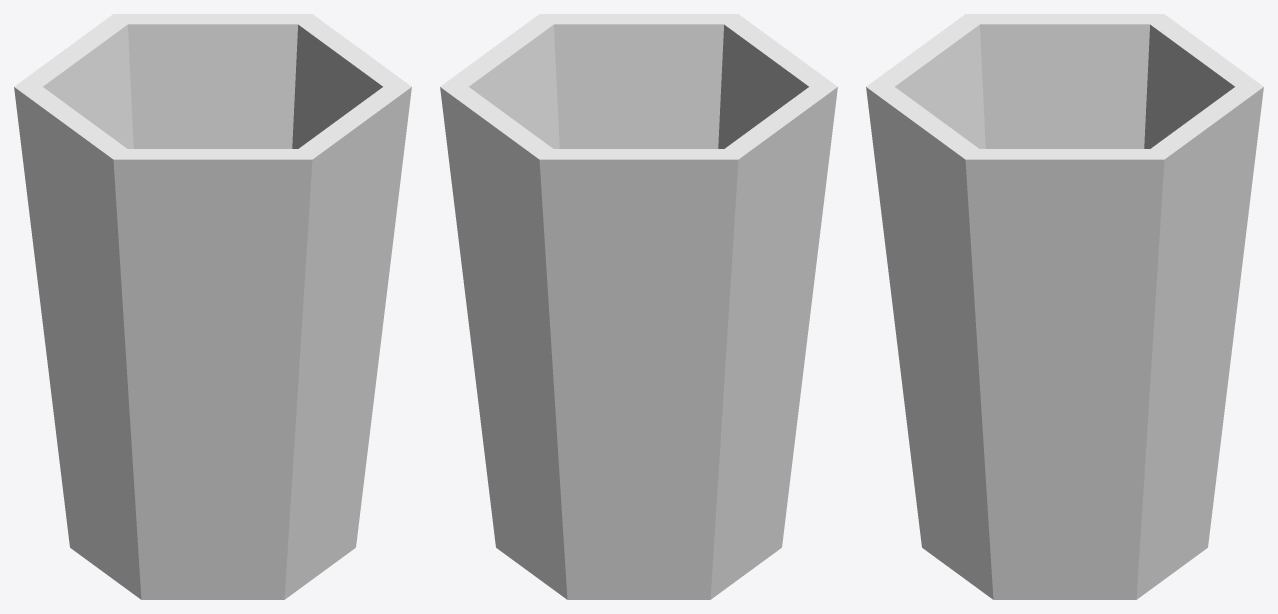
The model's file is Trash.fbx.
3 renders of one model, left to right at view 1: azimuth 30°, elevation 25°; view 2: azimuth 150°, elevation 25°; view 3: azimuth 270°, elevation 25°, orthographic.
Parts seen in each view (by area): view 1: Trash; view 2: Trash; view 3: Trash.
Boxes of the visible parts, box(x1,y1,x2,y2) form: Trash: box(14, 14, 411, 599); Trash: box(440, 14, 837, 599); Trash: box(866, 14, 1263, 599).
Bounding box in the file's own units: 173 × 256 × 200.
